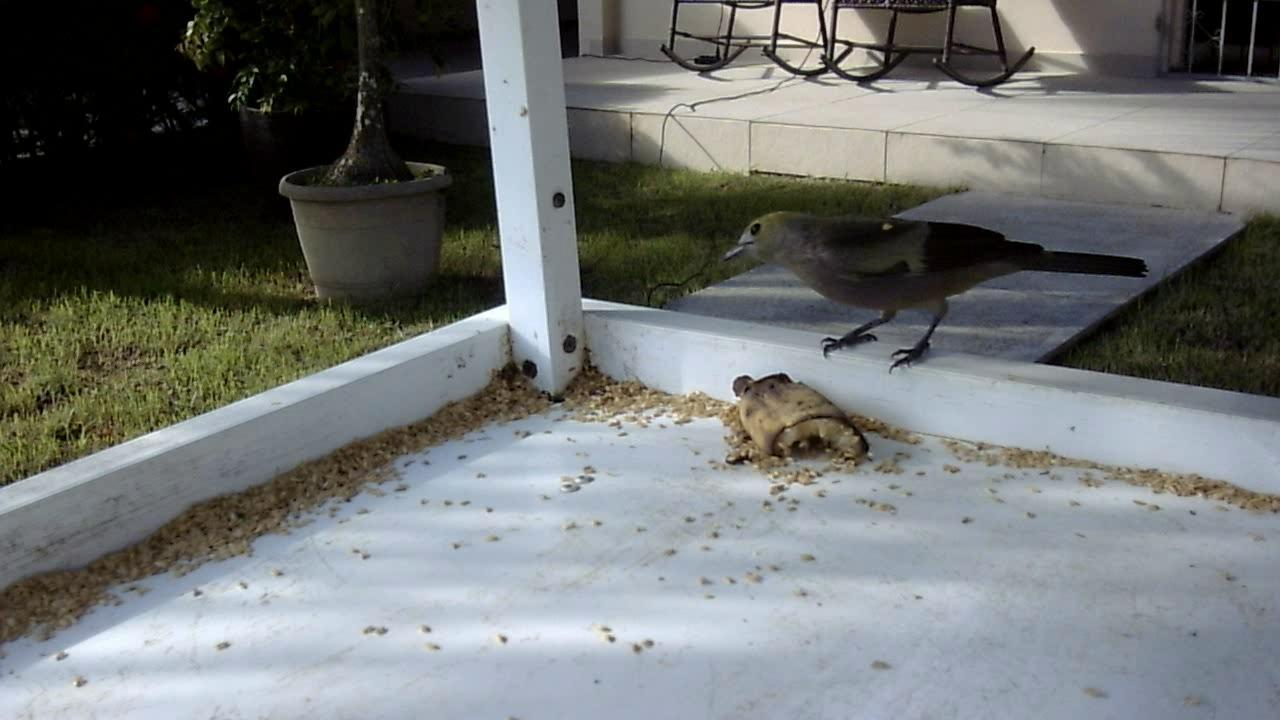sanhaco_do_coqueiro: (707, 196, 1147, 381)
